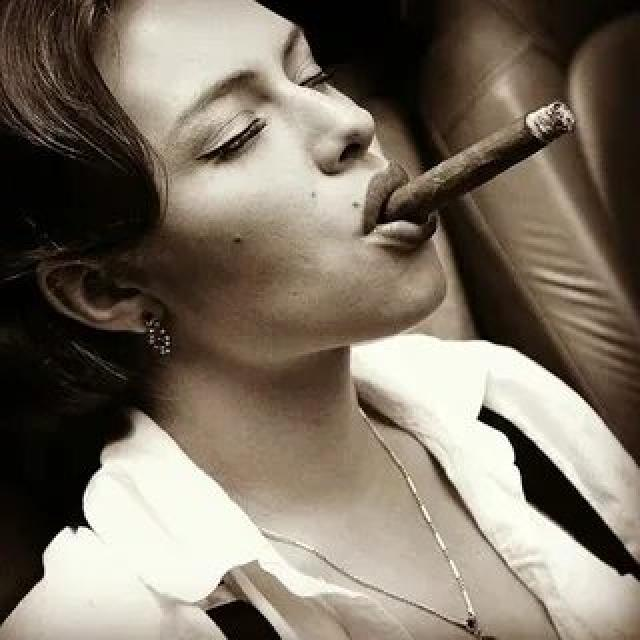smoke: (376, 98, 584, 236)
